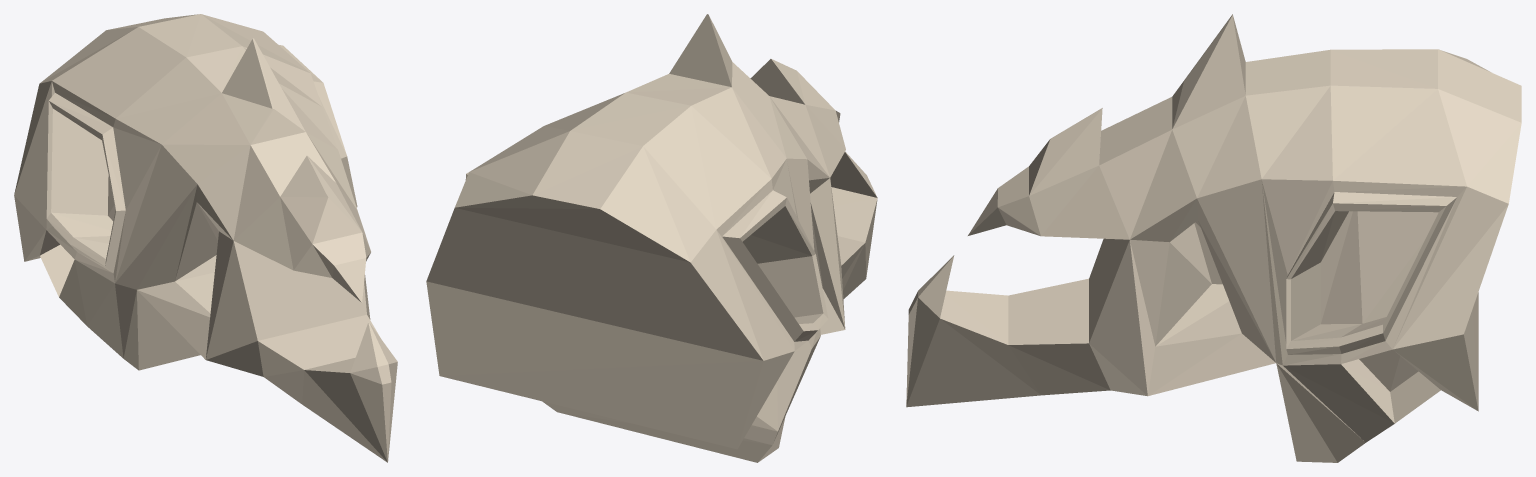
Rendered from SkullUpper.fbx.
3 views of the same model, side by side, from view 1: azimuth 30°, elevation 25°; view 2: azimuth 150°, elevation 25°; view 3: azimuth 270°, elevation 25° (orthographic). The views are drawn at different scales.
Parts seen in each view (by area): view 1: CraneoSup; view 2: CraneoSup; view 3: CraneoSup.
Part boxes in pixels (x1,y1,x2,y2): CraneoSup: (14, 14, 397, 462); CraneoSup: (426, 14, 877, 462); CraneoSup: (906, 14, 1521, 462).
Bounding box in the file's own units: 5.46 × 5.95 × 8.3.
